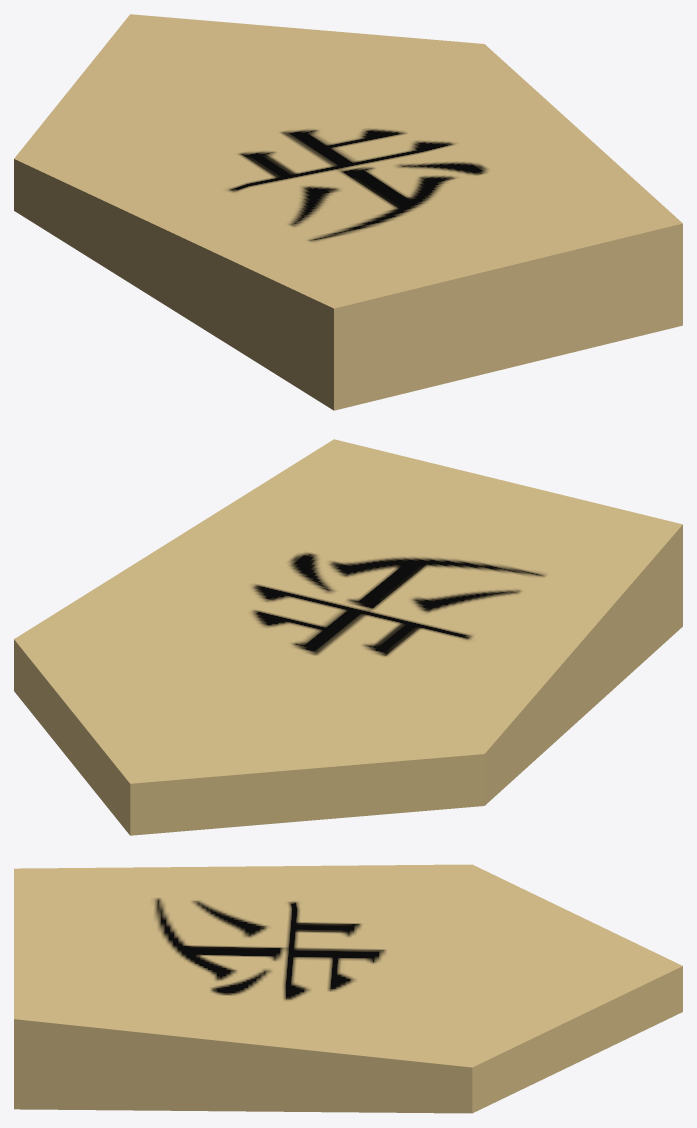
File: piece_fu.gltf
3 views of the same model, one above another, from view 1: azimuth 30°, elevation 25°; view 2: azimuth 150°, elevation 25°; view 3: azimuth 270°, elevation 25° (orthographic). The views are drawn at different scales.
Parts seen in each view (by area): view 1: Cube; view 2: Cube; view 3: Cube.
Part boxes in pixels (x1,y1,x2,y2): Cube: (14, 14, 682, 410); Cube: (14, 439, 682, 835); Cube: (14, 864, 682, 1113).
Size of the model in its own units: 1.31 by 0.2712 by 1.82.
1 material, 1 textured.
